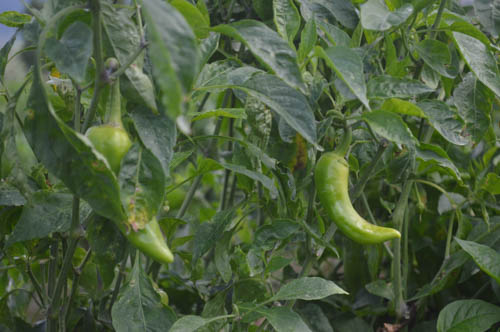ChiliPepper: (85, 126, 171, 263), (316, 155, 400, 246)
